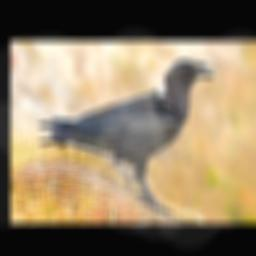Crow: (36, 59, 218, 216)
